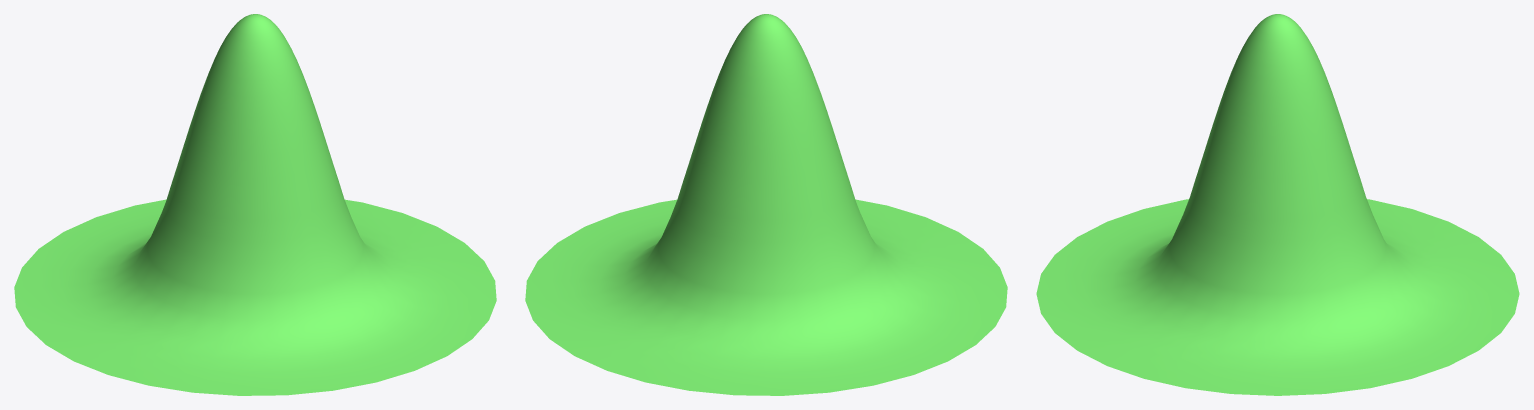
The model's file is human_v3.glb.
3 views of the same model, side by side, from view 1: azimuth 30°, elevation 25°; view 2: azimuth 150°, elevation 25°; view 3: azimuth 270°, elevation 25° (orthographic).
Parts seen in each view (by area): view 1: Circle; view 2: Circle; view 3: Circle.
Part boxes in pixels (<box>): Circle: <box>14,14,496,395</box>; Circle: <box>525,14,1007,395</box>; Circle: <box>1036,14,1519,395</box>.
Bounding box in the file's own units: 2 × 1.27 × 2.
